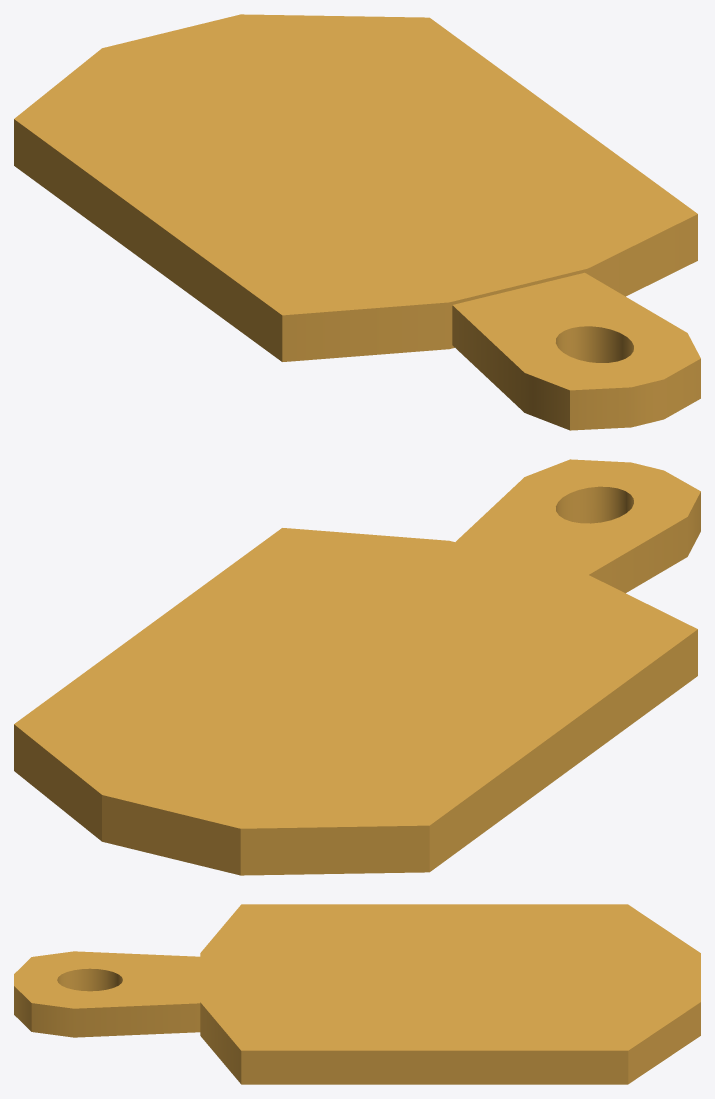
Rendered from 4 cutting board.fbx.
The picture shows the model from 3 angles, top to bottom: view 1: azimuth 30°, elevation 25°; view 2: azimuth 150°, elevation 25°; view 3: azimuth 270°, elevation 25°; orthographic projection. The views are drawn at different scales.
Parts seen in each view (by area): view 1: 4 cutting board; view 2: 4 cutting board; view 3: 4 cutting board.
Boxes of the visible parts, bbox=[...] form: 4 cutting board: bbox=[14, 14, 700, 430]; 4 cutting board: bbox=[14, 459, 700, 875]; 4 cutting board: bbox=[14, 904, 700, 1084].
Size of the model in its own units: 13.16 by 1.41 by 26.11.
